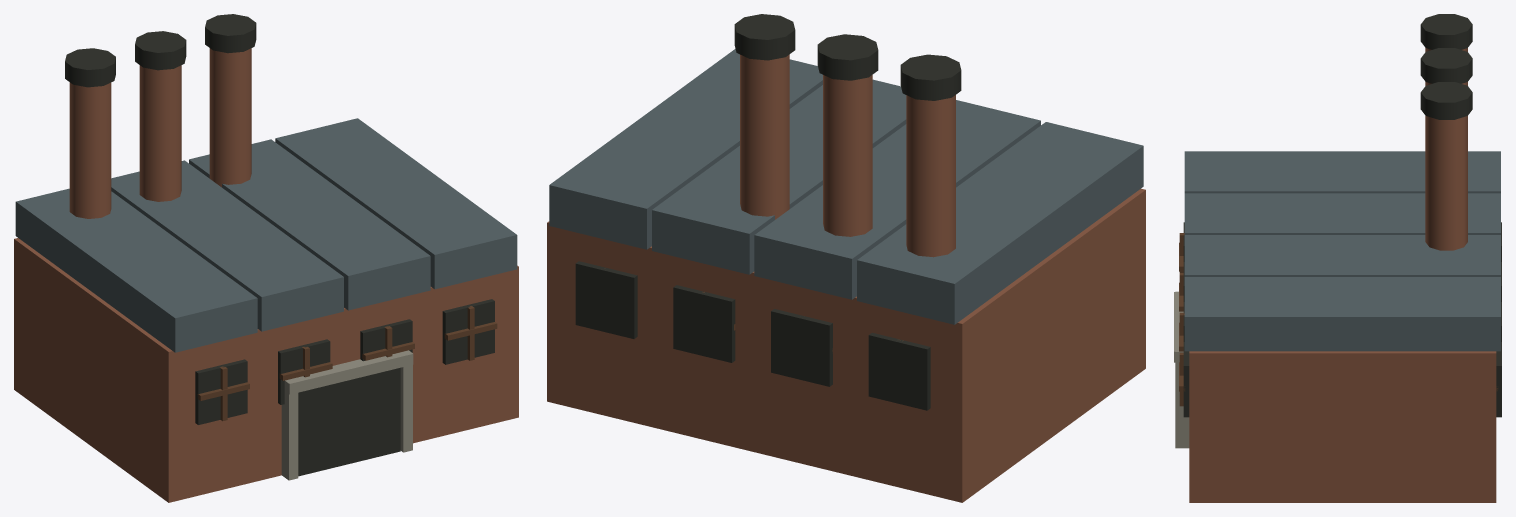
Rendered from custom-imp-steelmill.glb.
3 renders of one model, left to right at view 1: azimuth 30°, elevation 25°; view 2: azimuth 150°, elevation 25°; view 3: azimuth 270°, elevation 25°, orthographic. The views are drawn at different scales.
Parts seen in each view (by area): view 1: custom-imp-steelmill; view 2: custom-imp-steelmill; view 3: custom-imp-steelmill.
Part boxes in pixels (x1,y1,x2,y2): custom-imp-steelmill: [14, 14, 518, 502]; custom-imp-steelmill: [547, 14, 1145, 502]; custom-imp-steelmill: [1174, 14, 1501, 502].
Size of the model in its own units: 1 by 0.9176 by 0.8171.
